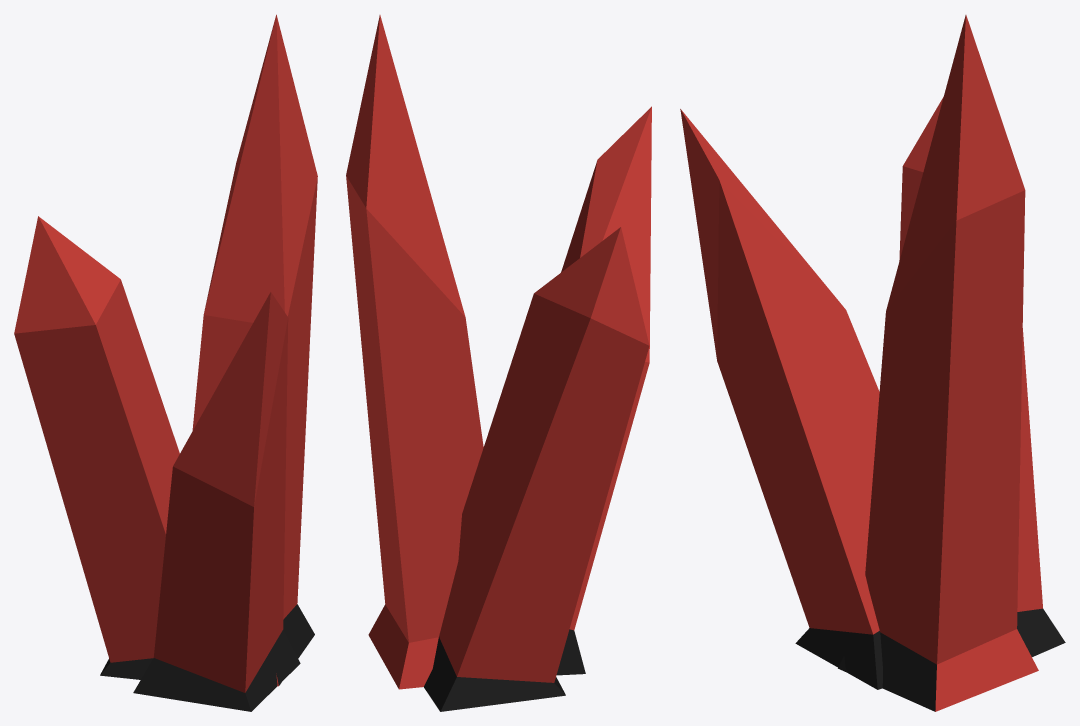
The model's file is Crisal_1.fbx.
3 renders of one model, left to right at view 1: azimuth 30°, elevation 25°; view 2: azimuth 150°, elevation 25°; view 3: azimuth 270°, elevation 25°, orthographic. The views are drawn at different scales.
Visible parts, largest first — view 1: cristal_1; view 2: cristal_1; view 3: cristal_1.
Boxes of the visible parts, x1,y1,x2,y2 form: cristal_1: [14, 14, 317, 711]; cristal_1: [346, 15, 651, 711]; cristal_1: [680, 15, 1065, 711].
Size of the model in its own units: 15.75 by 31.1 by 15.86.
